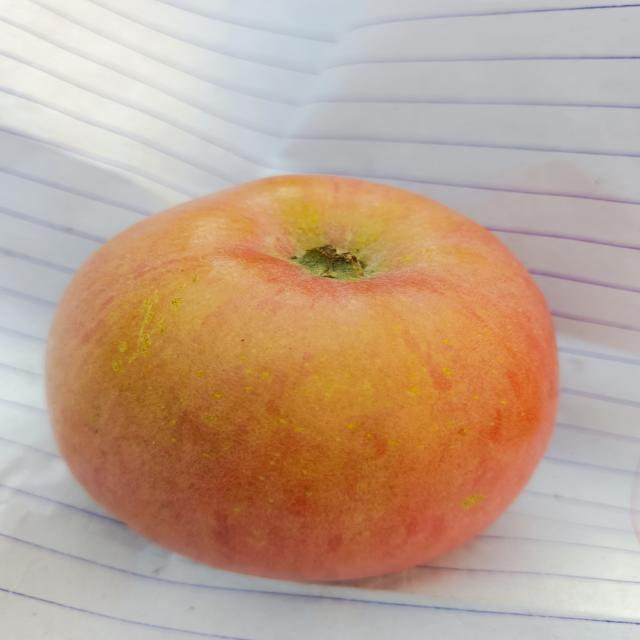Fresh Apple: (48, 197, 572, 590)
